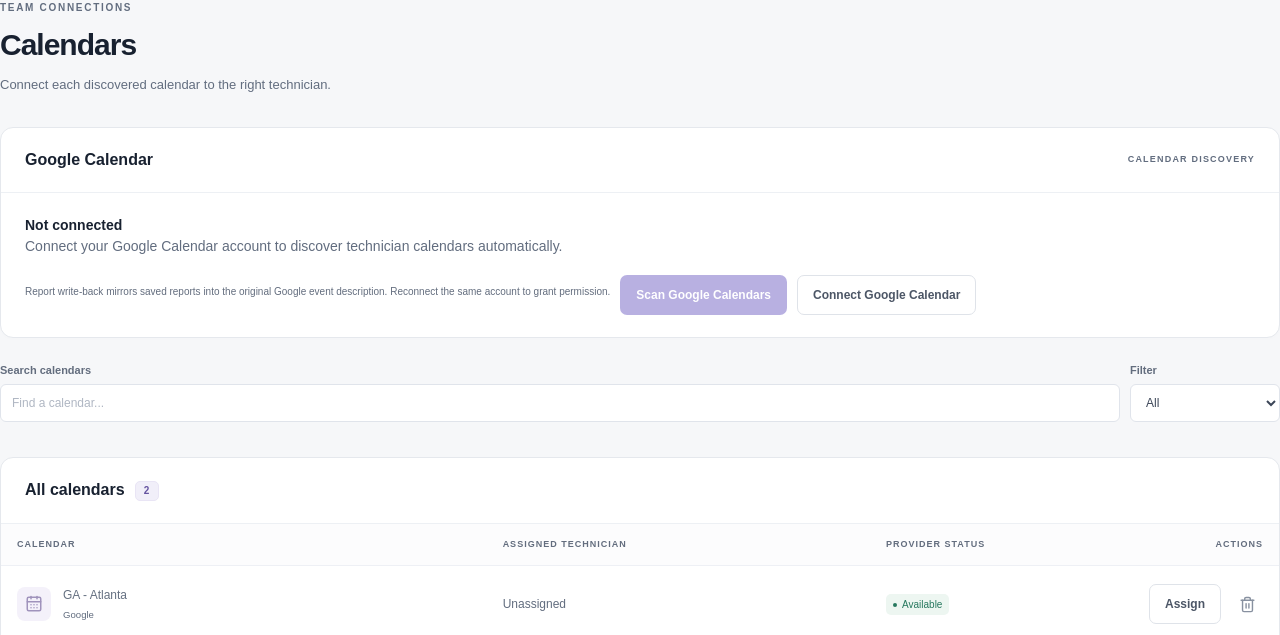
Test: filters unavailable and assigned calendars and preserves long names
Check: the text "GA - Atlanta" is shown, box [63,586,127,604]
Select "Unavailable" in the dropdown labelled "Filter": {"x": 1205, "y": 403} [1130,384,1279,422]
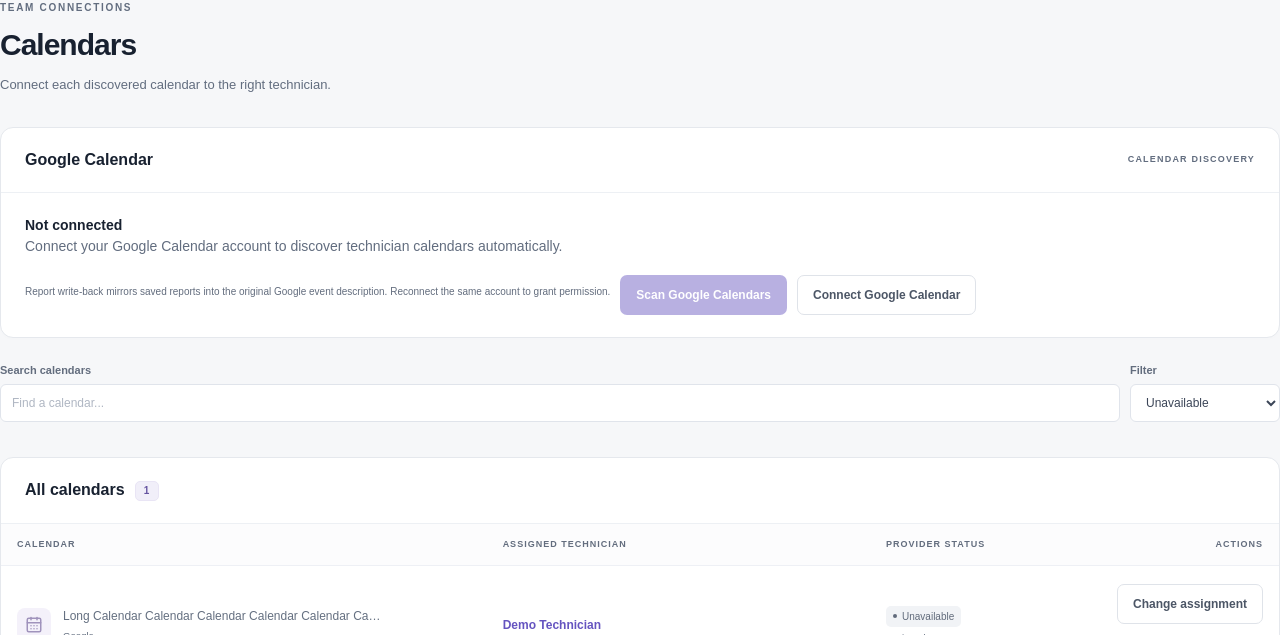
Check: the text "Unavailable" is shown, box [886,606,961,627]
Check: the text "GA - Atlanta" is gone
In the field labelled "Search calendars": {"x": 560, "y": 403} [0,384,1120,422], type "missing"
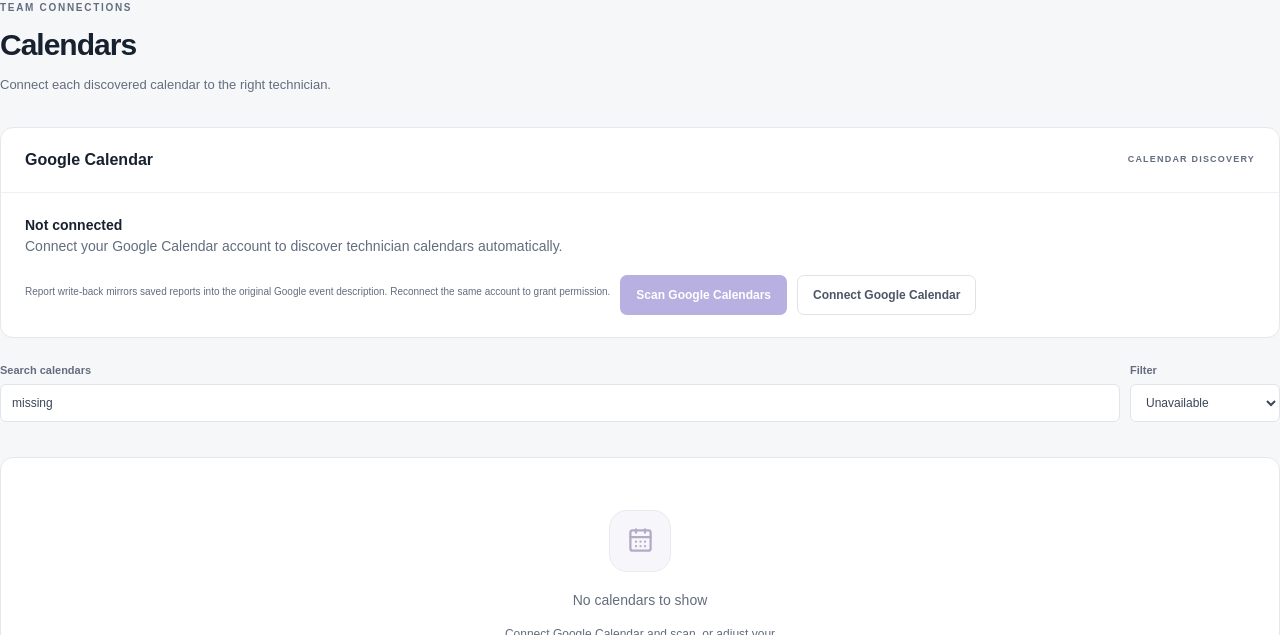
Check: the heading "No calendars to show" is shown, box [573,590,707,611]
